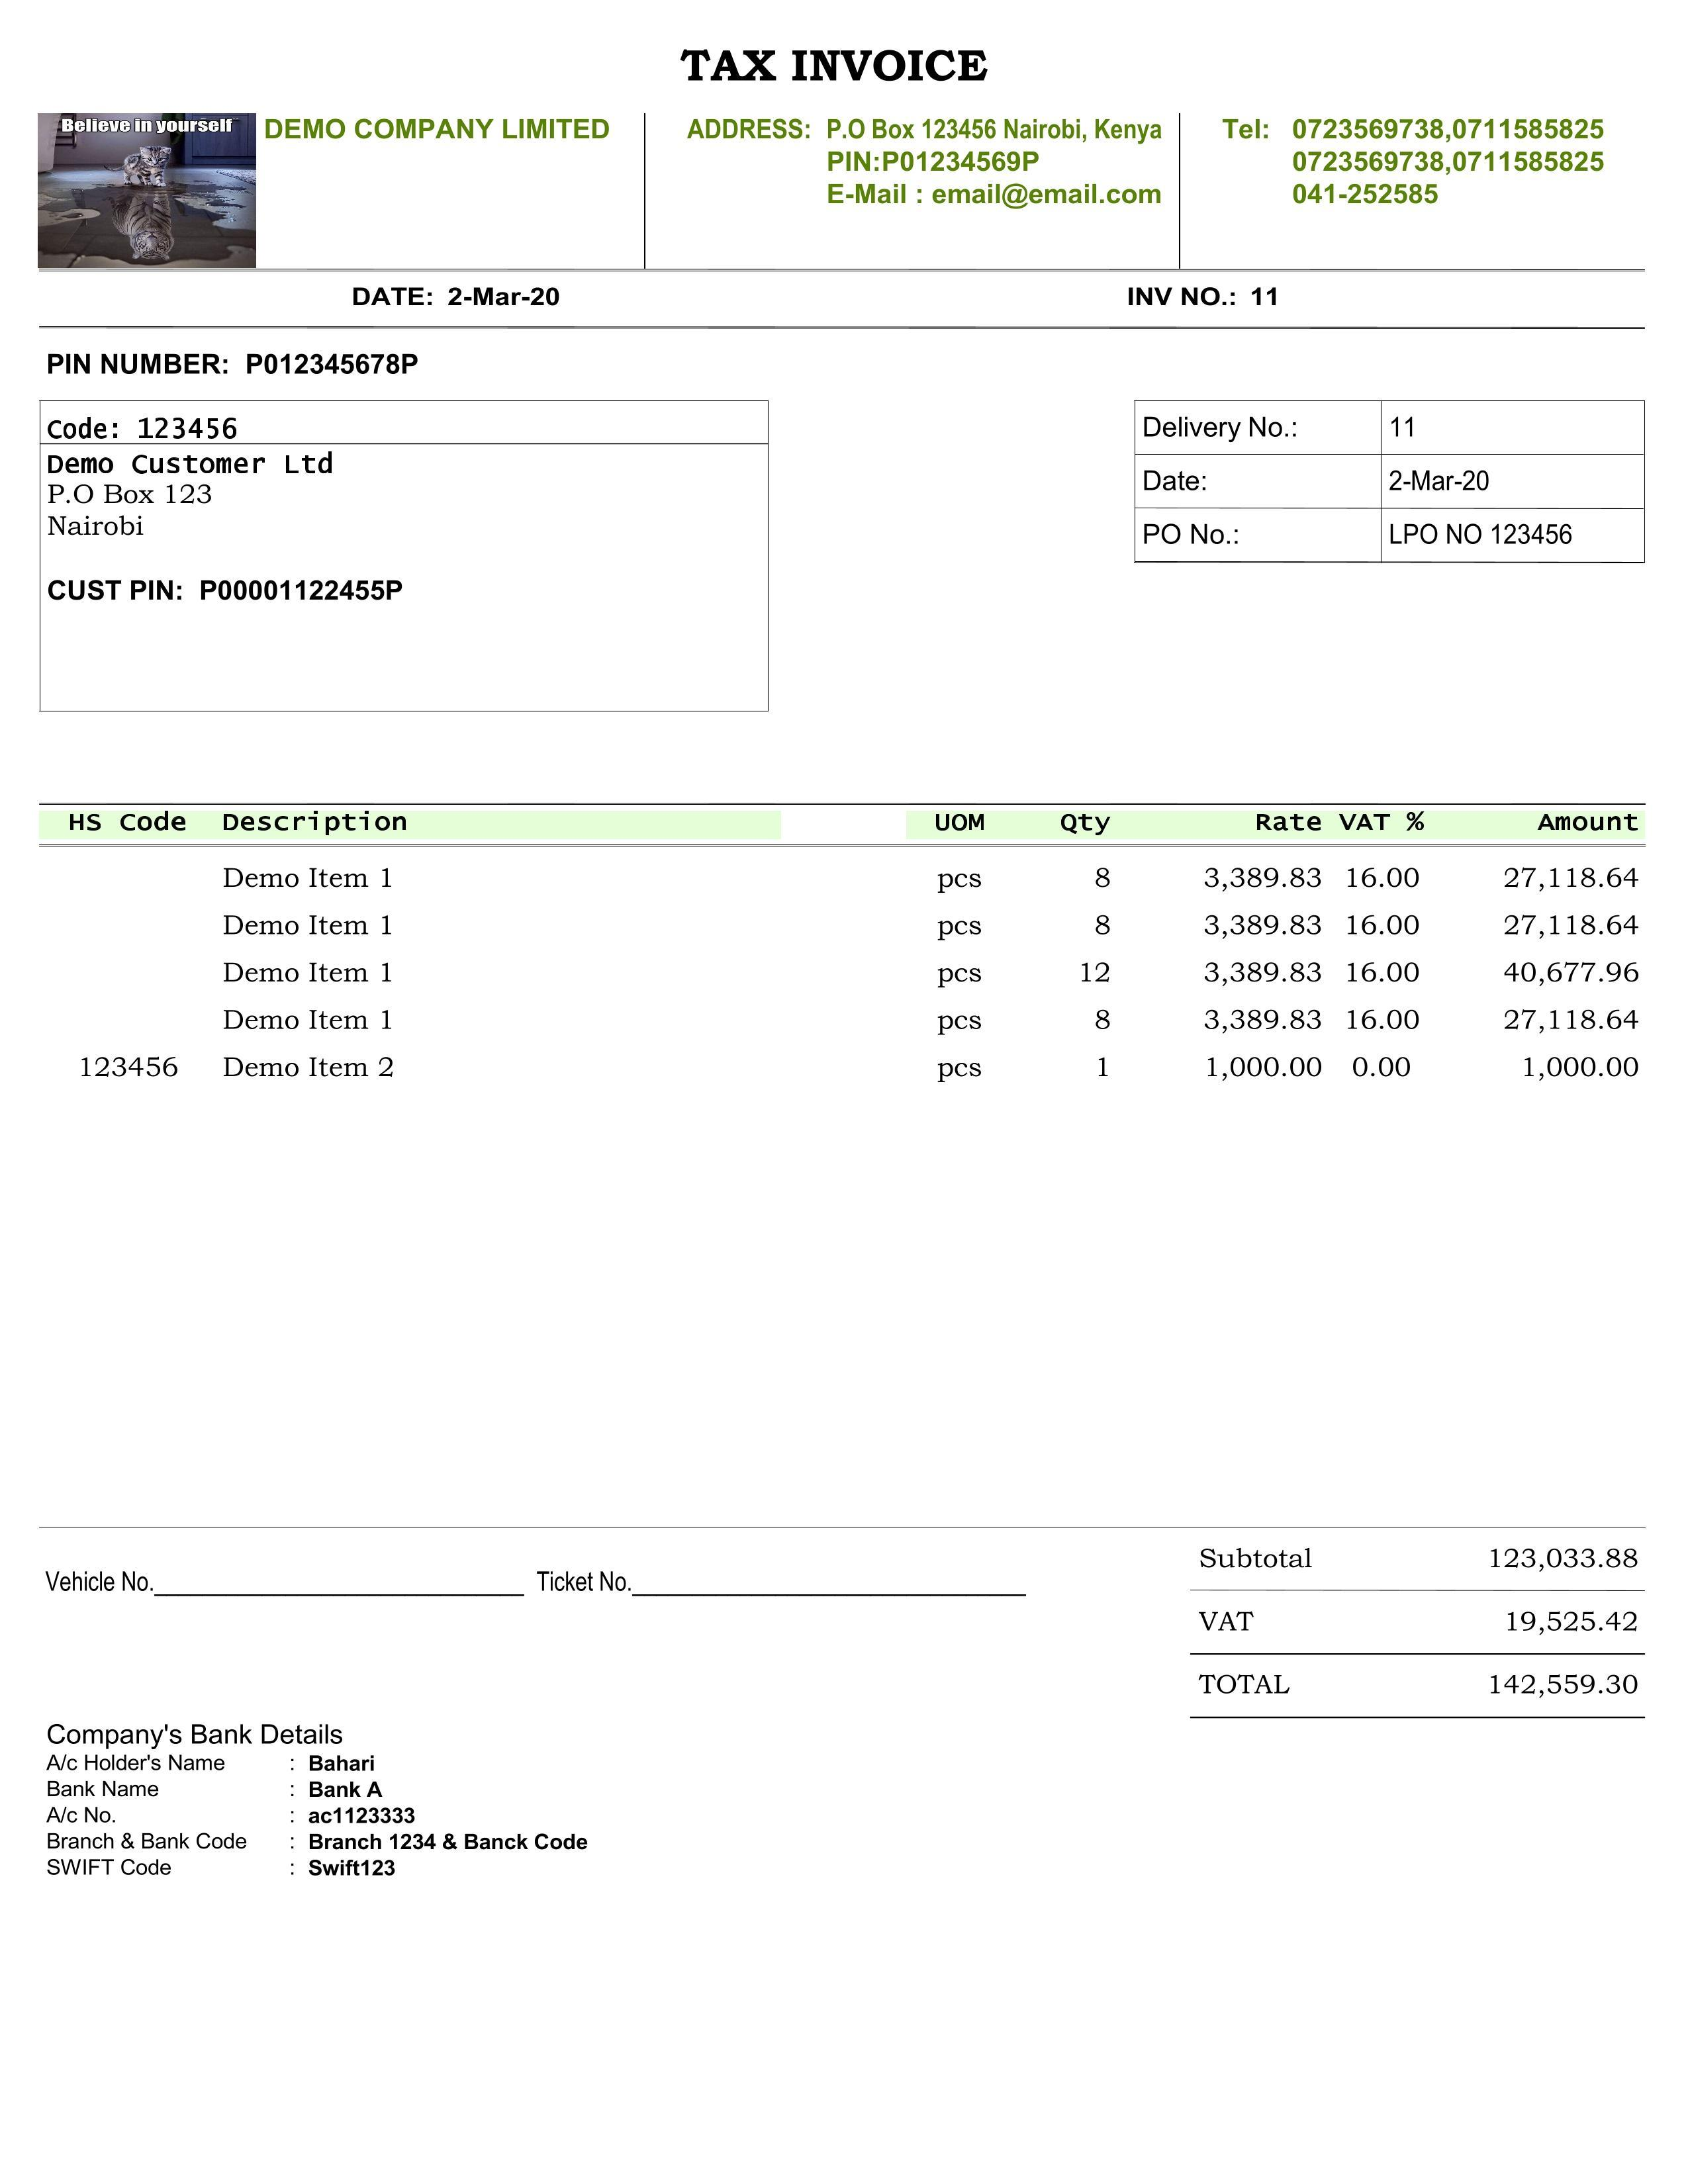InvoiceDate: (440, 280, 576, 314)
InvoiceNumber: (1241, 277, 1289, 317)
TotalAmount: (1479, 1665, 1649, 1702)
